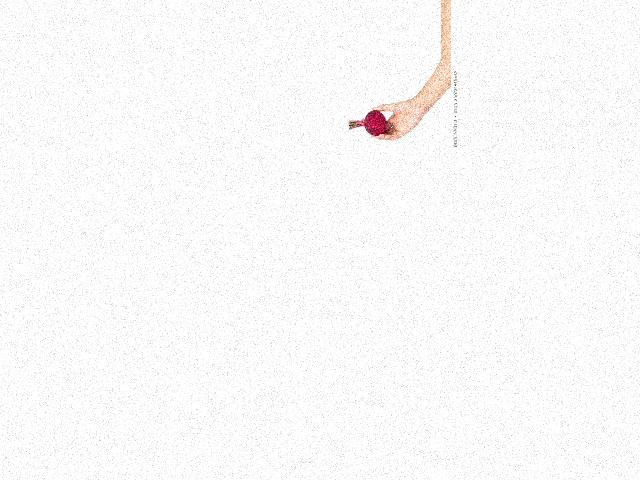beet: (348, 110, 387, 136)
